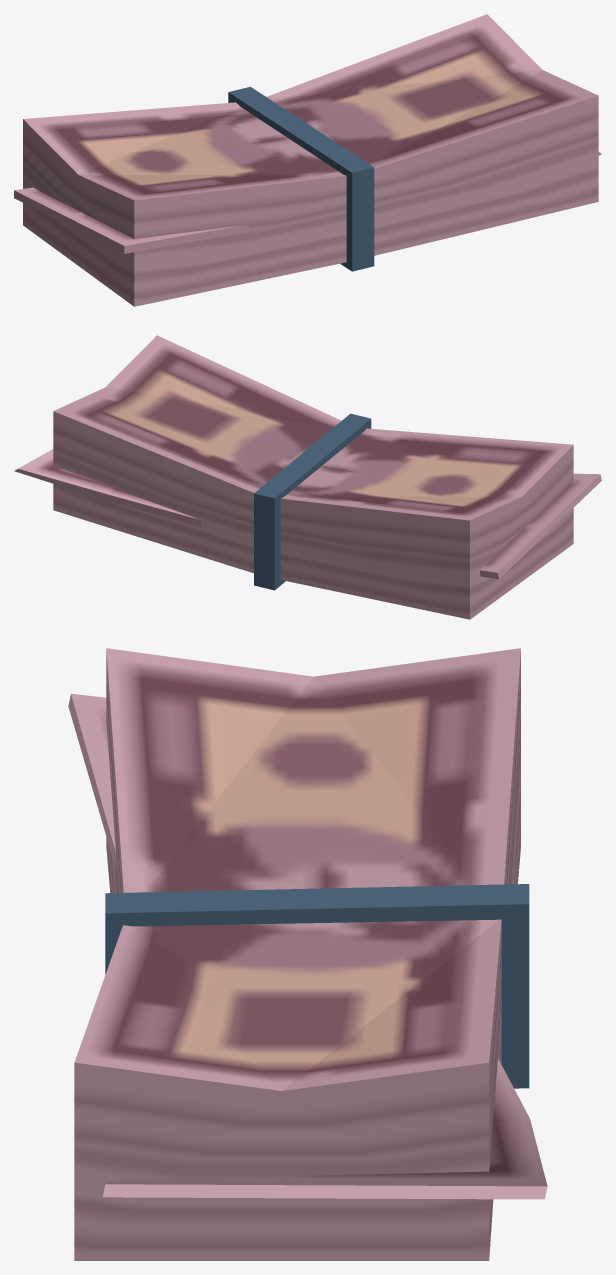
Rendered from SM_Prop_Money_Strapped_04.glb.
The picture shows the model from 3 angles, top to bottom: view 1: azimuth 30°, elevation 25°; view 2: azimuth 150°, elevation 25°; view 3: azimuth 270°, elevation 25°; orthographic projection. The views are drawn at different scales.
Visible parts, largest first — view 1: SM_Prop_Money_Strapped_04; view 2: SM_Prop_Money_Strapped_04; view 3: SM_Prop_Money_Strapped_04.
Boxes of the visible parts, x1,y1,x2,y2 form: SM_Prop_Money_Strapped_04: (14,14,601,306); SM_Prop_Money_Strapped_04: (14,335,601,619); SM_Prop_Money_Strapped_04: (68,648,547,1260).
Bounding box in the file's own units: 0.302 × 0.0712 × 0.1337.
Materials: 1 (1 with a texture image).
